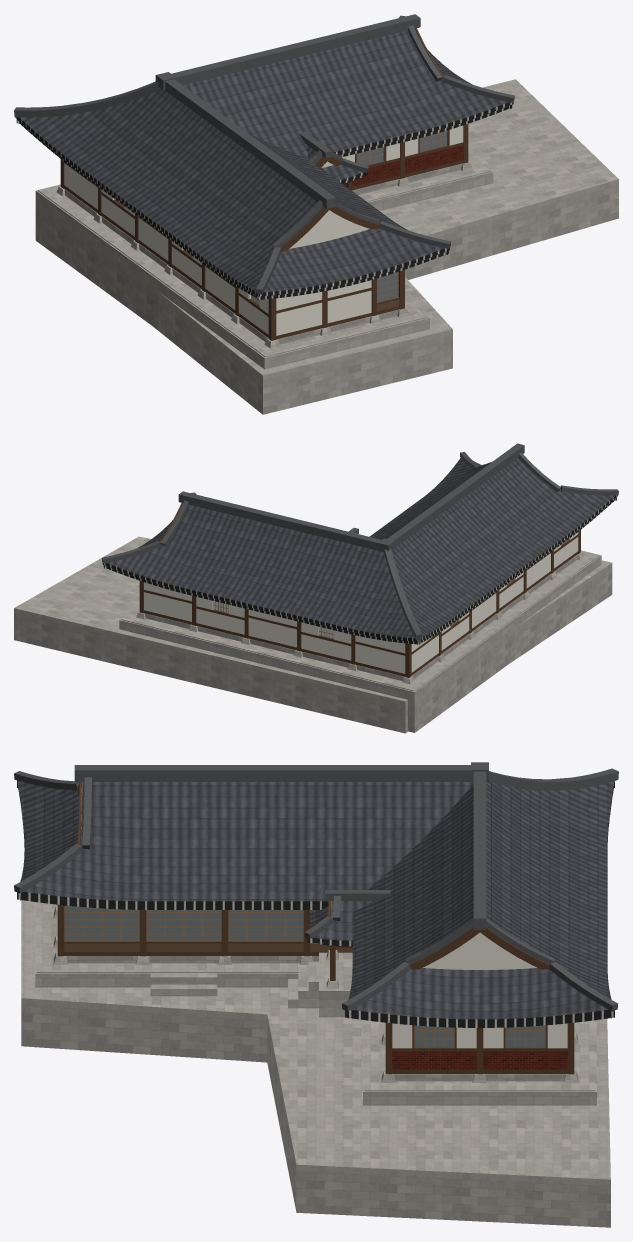
3 views of the same model, one above another, from view 1: azimuth 30°, elevation 25°; view 2: azimuth 150°, elevation 25°; view 3: azimuth 270°, elevation 25° (orthographic). The views are drawn at different scales.
Visible parts, largest first — view 1: gyeongwondang__giwa, gyeongwondang__stone, gyeongwondang__ridge, gyeongwondang__plaster, gyeongwondang__timber, gyeongwondang__eave, gyeongwondang__brick, gyeongwondang__glass, gyeongwondang__frame; view 2: gyeongwondang__giwa, gyeongwondang__stone, gyeongwondang__plaster, gyeongwondang__ridge, gyeongwondang__timber, gyeongwondang__eave; view 3: gyeongwondang__giwa, gyeongwondang__stone, gyeongwondang__ridge, gyeongwondang__glass, gyeongwondang__timber, gyeongwondang__eave, gyeongwondang__plaster, gyeongwondang__brick, gyeongwondang__frame, gyeongwondang__door.
Part boxes in pixels (bbox=[...]): gyeongwondang__giwa: bbox=[19, 30, 508, 292]; gyeongwondang__stone: bbox=[35, 79, 618, 414]; gyeongwondang__ridge: bbox=[14, 14, 514, 294]; gyeongwondang__plaster: bbox=[64, 125, 463, 335]; gyeongwondang__timber: bbox=[60, 28, 468, 340]; gyeongwondang__eave: bbox=[15, 102, 513, 300]; gyeongwondang__brick: bbox=[343, 145, 463, 186]; gyeongwondang__glass: bbox=[356, 130, 446, 301]; gyeongwondang__frame: bbox=[114, 130, 447, 306]; gyeongwondang__giwa: bbox=[107, 457, 615, 638]; gyeongwondang__stone: bbox=[14, 536, 612, 733]; gyeongwondang__plaster: bbox=[144, 532, 578, 673]; gyeongwondang__ridge: bbox=[102, 443, 618, 639]; gyeongwondang__timber: bbox=[139, 457, 580, 677]; gyeongwondang__eave: bbox=[102, 495, 617, 644]; gyeongwondang__giwa: bbox=[17, 780, 614, 1019]; gyeongwondang__stone: bbox=[21, 900, 610, 1227]; gyeongwondang__ridge: bbox=[14, 762, 618, 1011]; gyeongwondang__glass: bbox=[65, 906, 545, 1046]; gyeongwondang__timber: bbox=[57, 782, 574, 1074]; gyeongwondang__eave: bbox=[17, 780, 614, 1027]; gyeongwondang__plaster: bbox=[81, 782, 567, 1048]; gyeongwondang__brick: bbox=[392, 1051, 567, 1069]; gyeongwondang__frame: bbox=[64, 906, 545, 1047]; gyeongwondang__door: bbox=[64, 943, 352, 951].
Size of the model in its own units: 23.38 by 8.01 by 19.93.
Materials: 12 (4 with a texture image).
